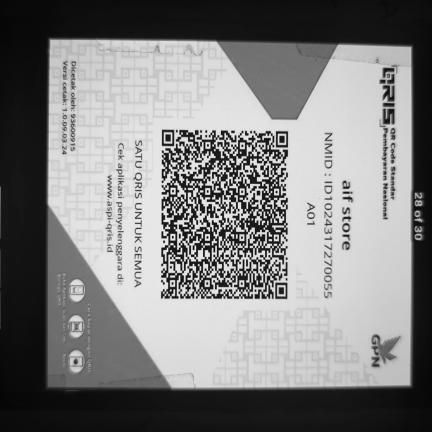Cara Pakai QRIS: (53, 268, 94, 383)
Cek Aplikasi Penyelenggara: (102, 134, 128, 292)
Dicetak Oleh: (70, 58, 78, 155)
Logo GPN: (364, 327, 405, 375)
Logo dan deskripsi QRIS: (375, 57, 403, 226)
Nama Merchant: (339, 174, 355, 255)
National Merchant ID: (321, 128, 337, 302)
QR Code: (158, 124, 292, 303)
Slogan: (131, 134, 145, 292)
Terminal ID: (305, 199, 318, 229)
Versi Cetak: (58, 57, 69, 157)
